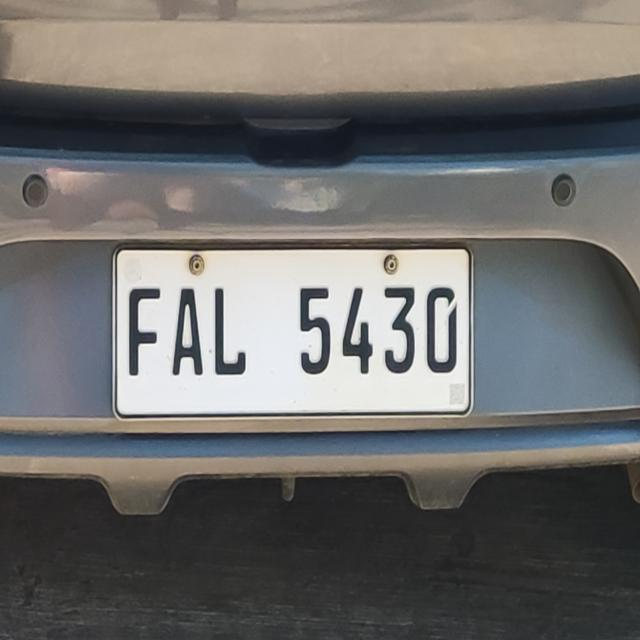plate: (105, 238, 482, 429)
